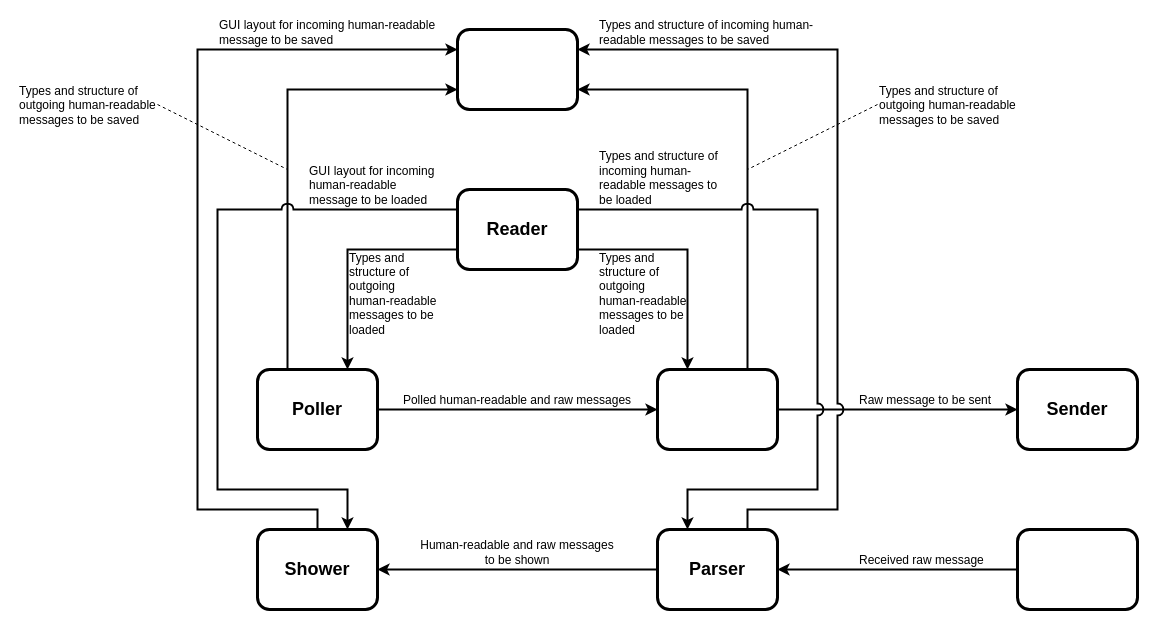
The diagram is 1156 pixels wide and 628 high, and some of its shapes have lost their labels. Here are the shapes that lost their labels. From the top down, the centre of each, then its label:
point (517, 69): Writer
point (717, 409): Composer
point (1077, 569): Receiver
